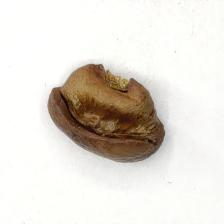NG: (51, 64, 156, 145)
